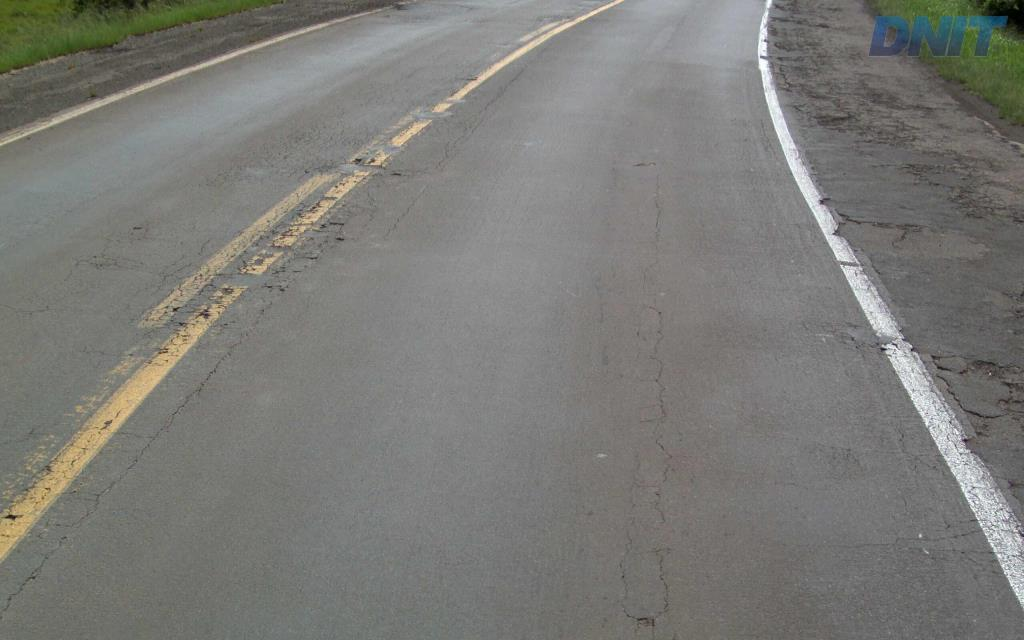crack: (621, 555, 670, 639)
